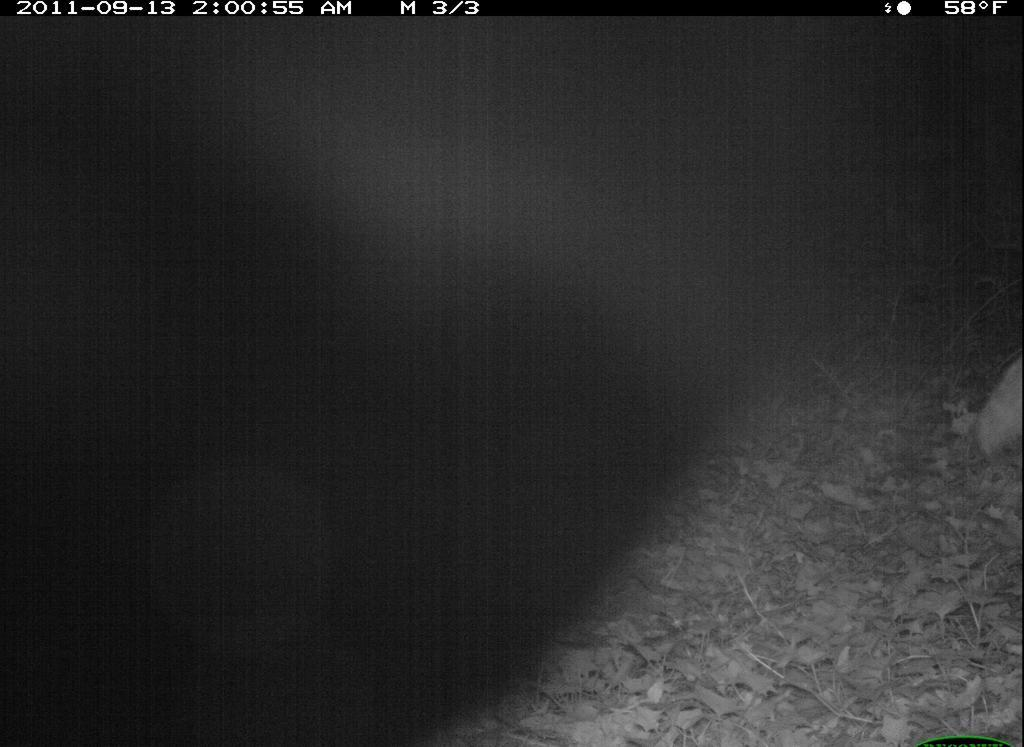coyote: (968, 323, 1024, 470)
